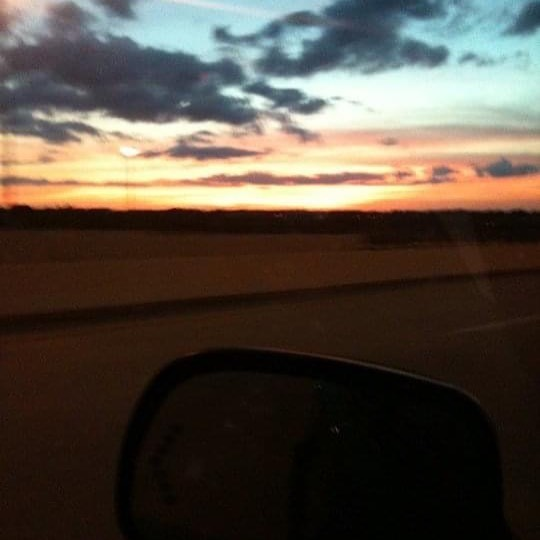road: (1, 286, 540, 540)
sky: (1, 1, 536, 203)
